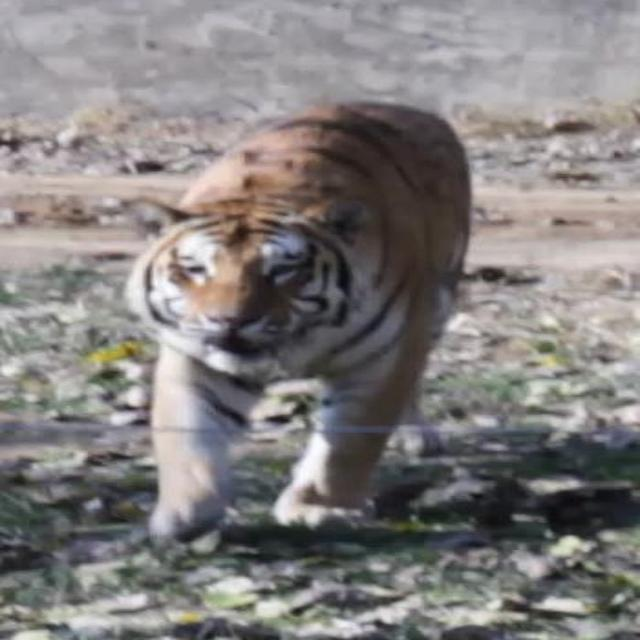tiger: (123, 98, 473, 545)
